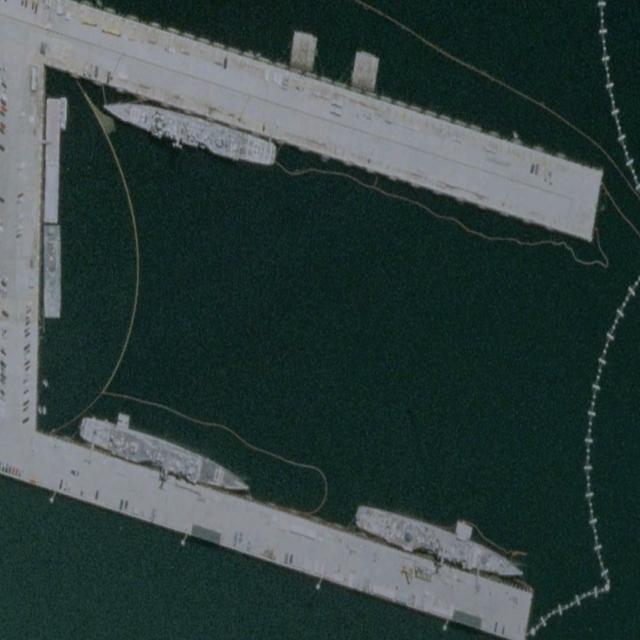Frigate: (76, 411, 254, 500), (355, 500, 526, 586), (100, 89, 278, 171)
